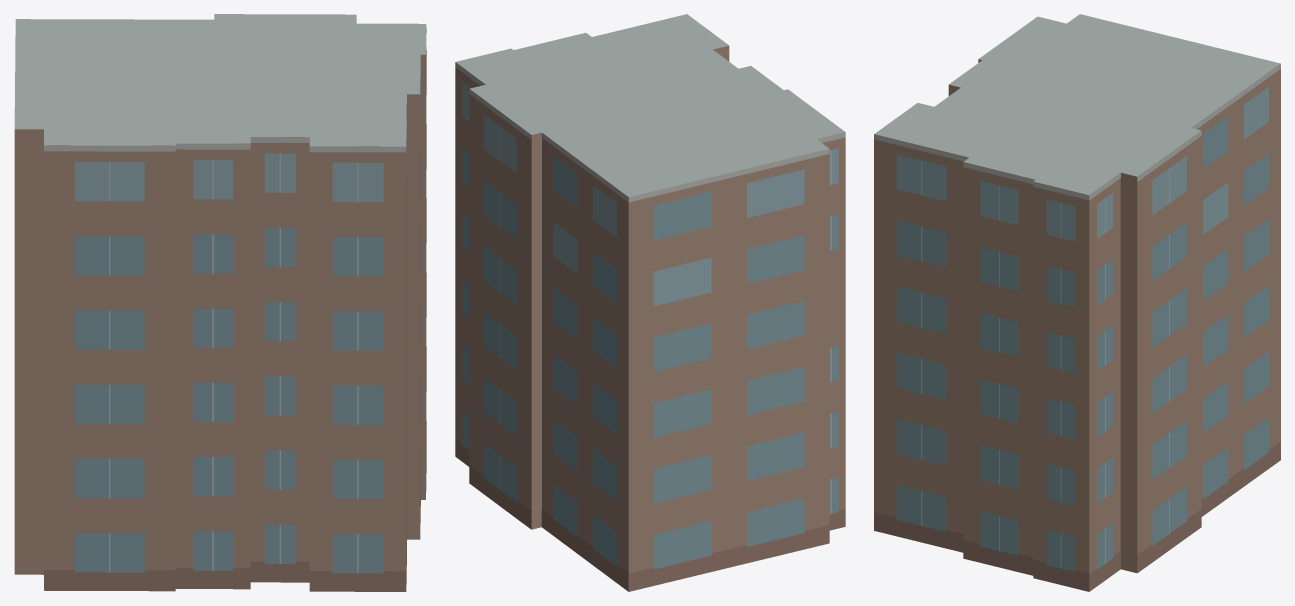
Rendered from survey-upis-32905656.glb.
The picture shows the model from 3 angles, left to right: view 1: azimuth 30°, elevation 25°; view 2: azimuth 150°, elevation 25°; view 3: azimuth 270°, elevation 25°; orthographic projection. The views are drawn at different scales.
Parts seen in each view (by area): view 1: survey-upis-32905656.tmp; view 2: survey-upis-32905656.tmp; view 3: survey-upis-32905656.tmp.
Part boxes in pixels (x1,y1,x2,y2): survey-upis-32905656.tmp: (14, 14, 426, 591); survey-upis-32905656.tmp: (455, 14, 845, 591); survey-upis-32905656.tmp: (874, 14, 1280, 591).
Size of the model in its own units: 17.94 by 18.3 by 17.01.
